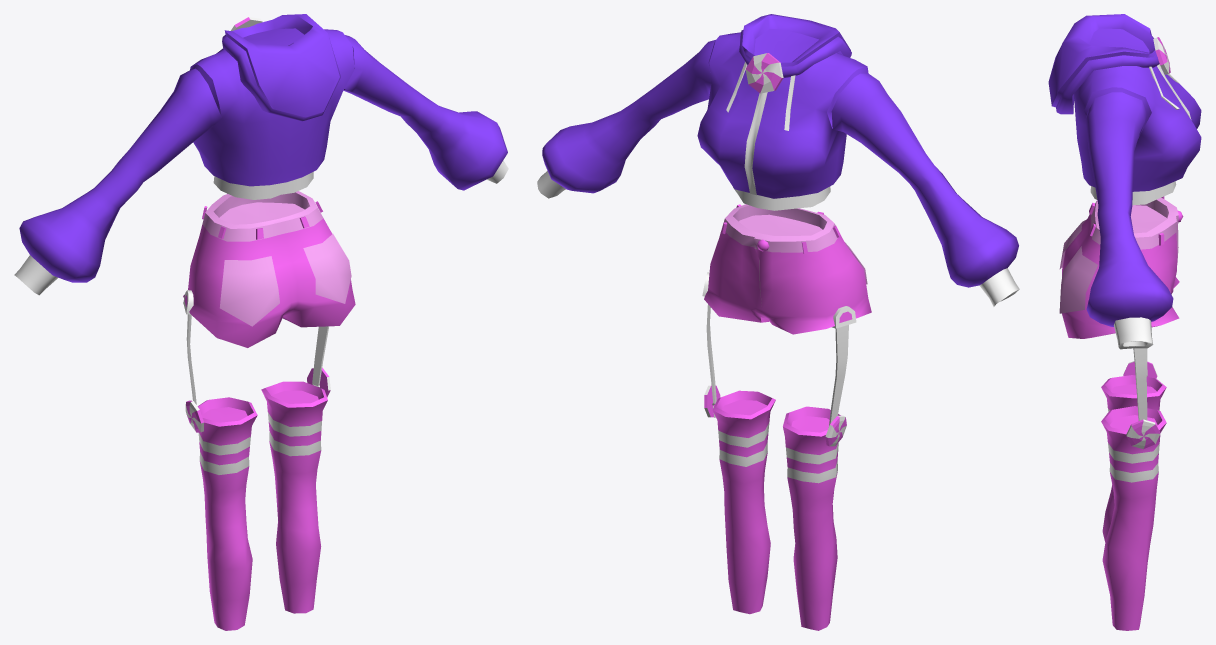
The model's file is StyleShorts.fbx.
3 views of the same model, side by side, from view 1: azimuth 30°, elevation 25°; view 2: azimuth 150°, elevation 25°; view 3: azimuth 270°, elevation 25° (orthographic). The views are drawn at different scales.
Visible parts, largest first — view 1: StyleShorts; view 2: StyleShorts; view 3: StyleShorts.
Part boxes in pixels (bbox=[...]): StyleShorts: bbox=[14, 14, 508, 630]; StyleShorts: bbox=[537, 14, 1019, 630]; StyleShorts: bbox=[1048, 14, 1201, 630].
Bounding box in the file's own units: 407 × 477 × 114.
